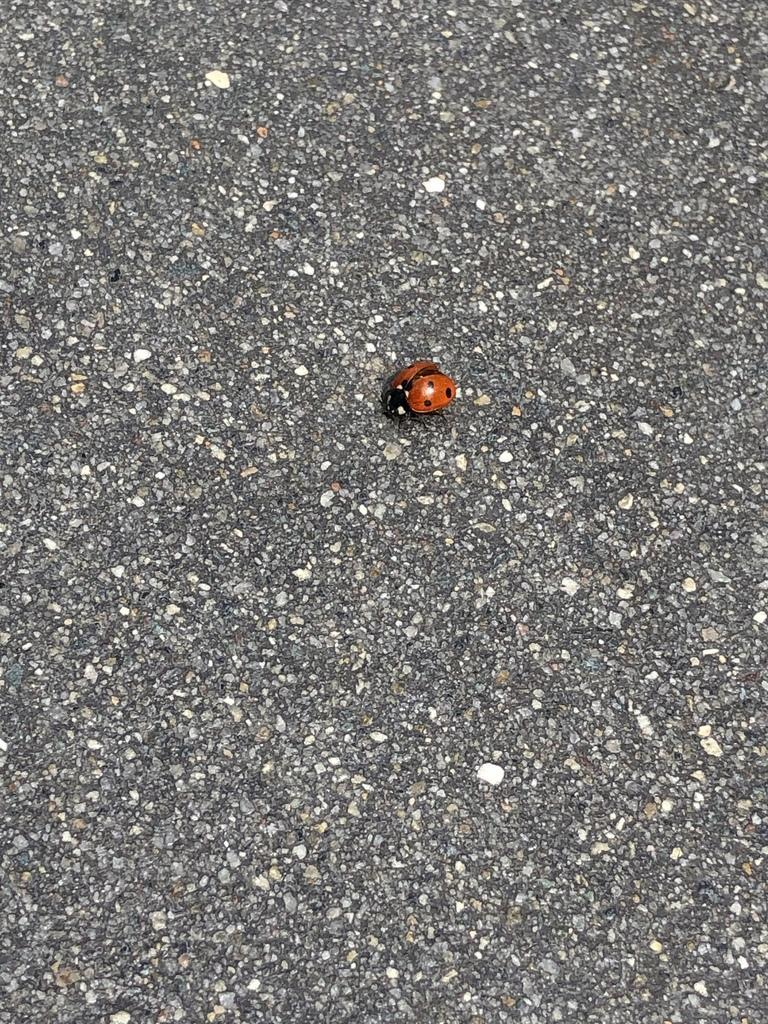ladybug: (376, 359, 459, 432)
